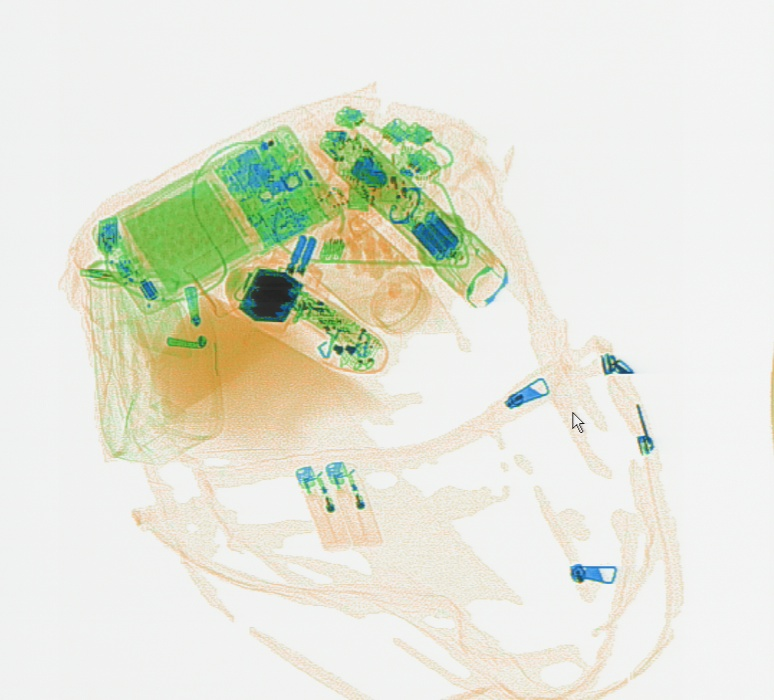lighter: (320, 454, 388, 553), (290, 463, 351, 554)
